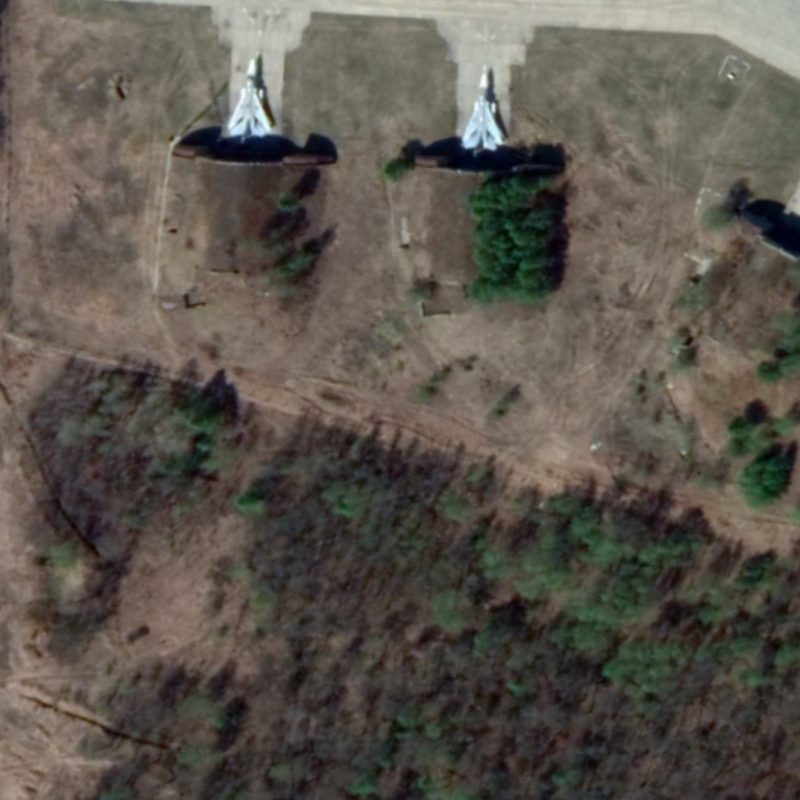A20: (460, 59, 508, 153), (226, 57, 274, 139)
